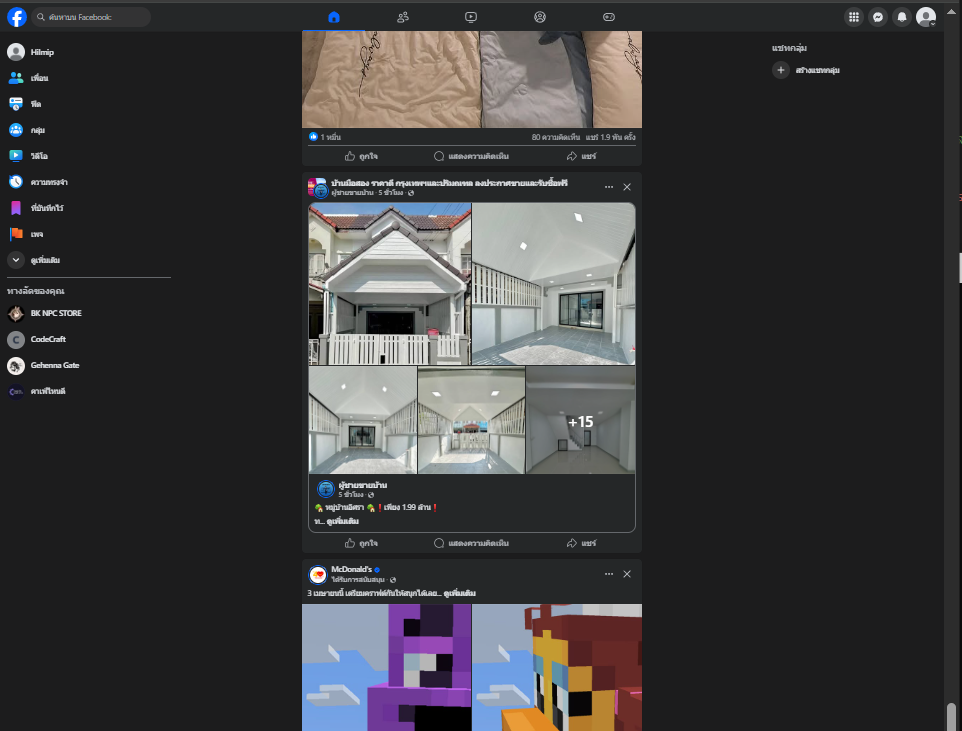topic: (300, 175, 643, 555), (302, 562, 644, 728), (299, 30, 644, 166)
